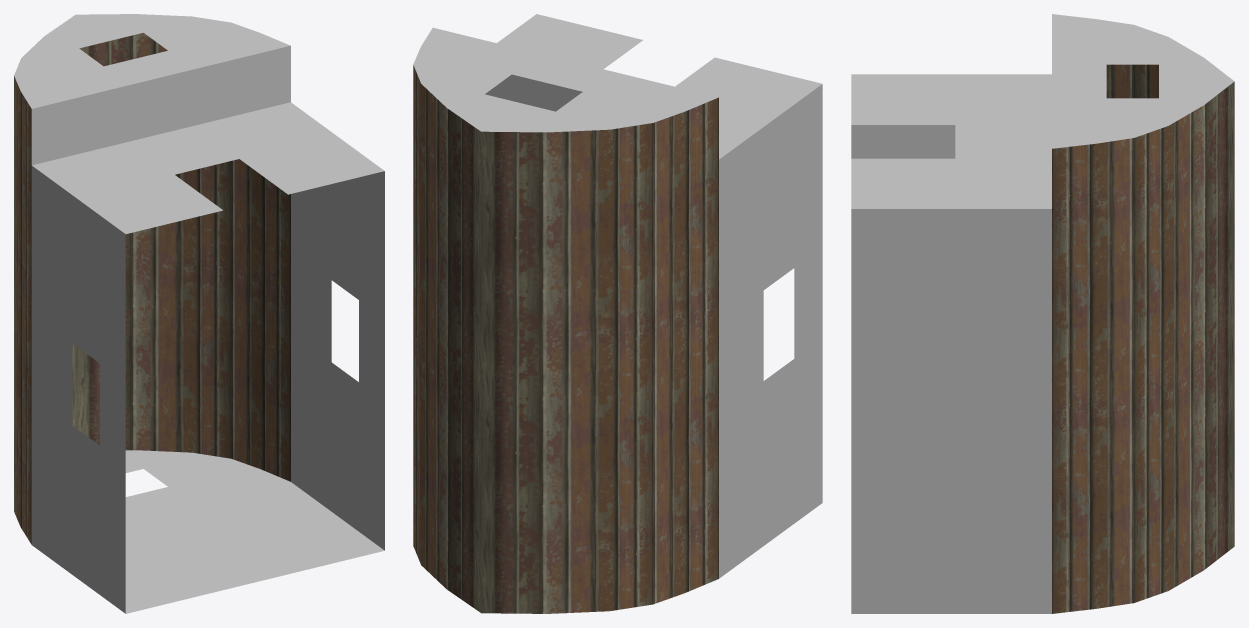
The model's file is Pirate_House_Interior_Type02_B.fbx.
3 renders of one model, left to right at view 1: azimuth 30°, elevation 25°; view 2: azimuth 150°, elevation 25°; view 3: azimuth 270°, elevation 25°, orthographic. The views are drawn at different scales.
Visible parts, largest first — view 1: Pirate_House_Interior_Type02_B; view 2: Pirate_House_Interior_Type02_B; view 3: Pirate_House_Interior_Type02_B.
Boxes of the visible parts, x1,y1,x2,y2 form: Pirate_House_Interior_Type02_B: [14, 14, 384, 613]; Pirate_House_Interior_Type02_B: [413, 14, 822, 613]; Pirate_House_Interior_Type02_B: [851, 14, 1234, 613].
Size of the model in its own units: 6.43 by 10.34 by 7.72.
